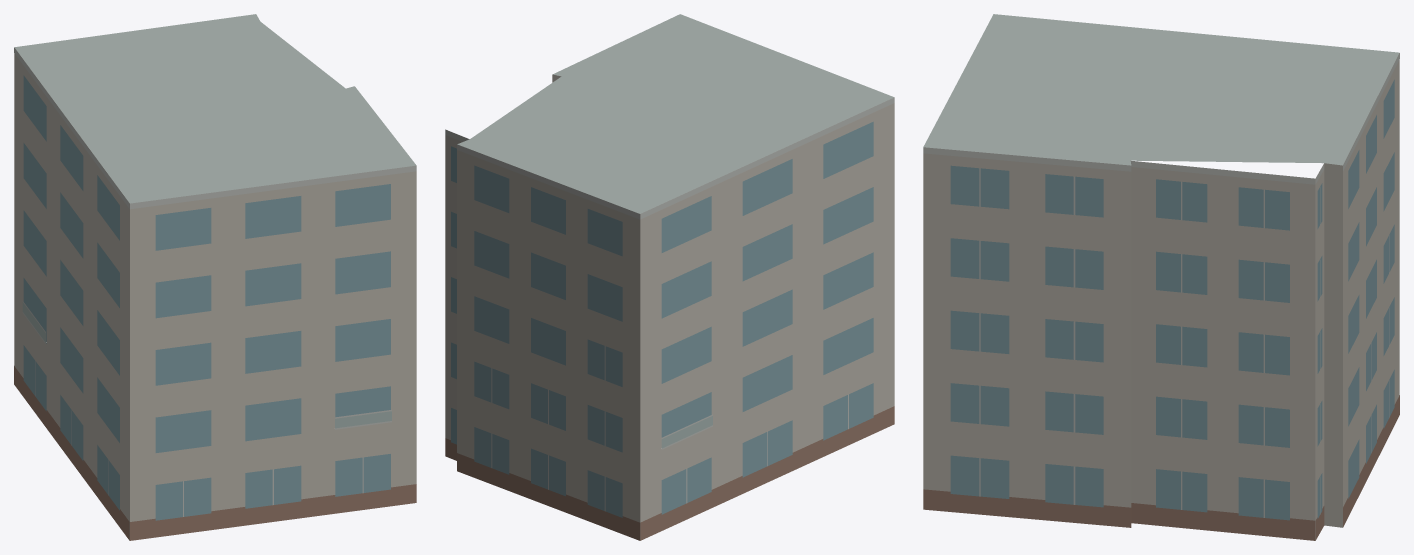
Rendered from survey-upis-32701573.glb.
The picture shows the model from 3 angles, left to right: view 1: azimuth 30°, elevation 25°; view 2: azimuth 150°, elevation 25°; view 3: azimuth 270°, elevation 25°; orthographic projection. The views are drawn at different scales.
Visible parts, largest first — view 1: survey-upis-32701573.tmp; view 2: survey-upis-32701573.tmp; view 3: survey-upis-32701573.tmp.
Part boxes in pixels (x1,y1,x2,y2): survey-upis-32701573.tmp: [14, 14, 416, 540]; survey-upis-32701573.tmp: [445, 14, 894, 540]; survey-upis-32701573.tmp: [923, 14, 1399, 540].
Bounding box in the file's own units: 13.99 × 14.35 × 17.12.
